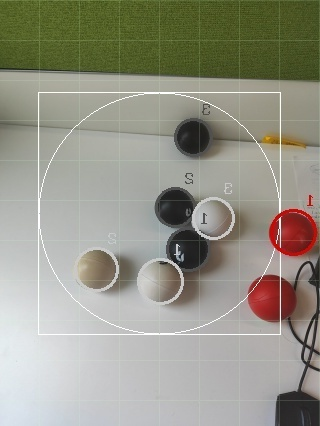Pelota blanca: (135, 257, 185, 304), (71, 246, 121, 291), (191, 196, 238, 240), (165, 228, 209, 270)
Pelota negra: (165, 228, 209, 270), (154, 185, 196, 227), (173, 116, 214, 158), (274, 390, 320, 425)
Pelota roja: (268, 206, 320, 256), (247, 273, 297, 323)
